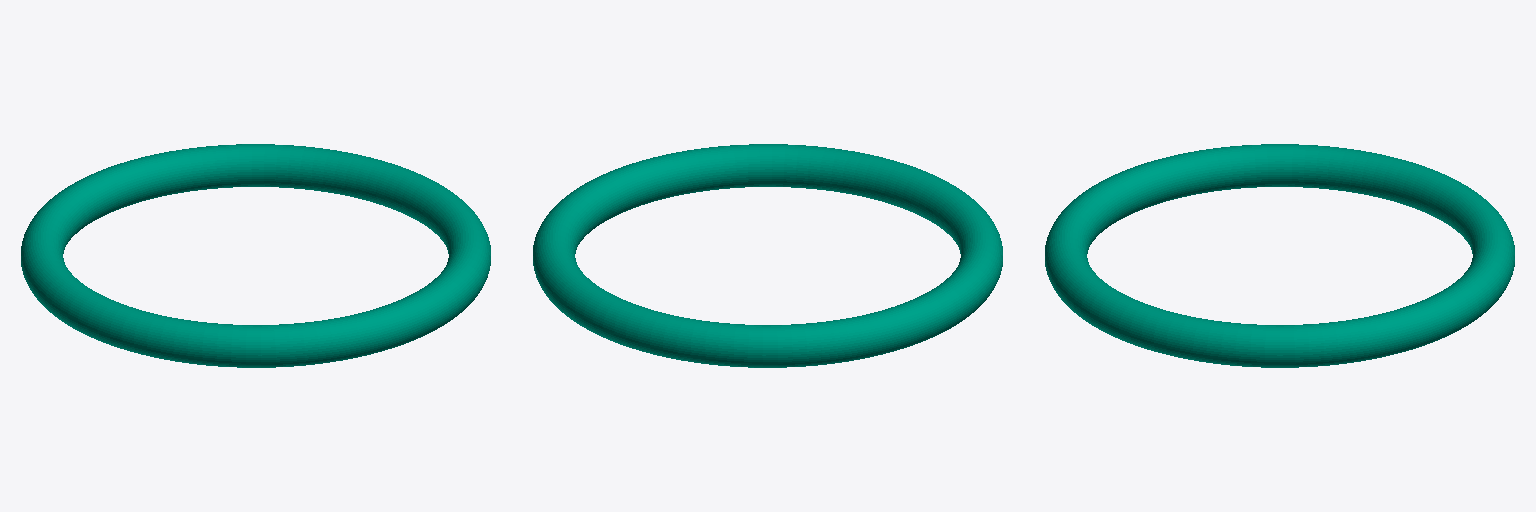
The model's file is ring4.obj.
3 views of the same model, side by side, from view 1: azimuth 30°, elevation 25°; view 2: azimuth 150°, elevation 25°; view 3: azimuth 270°, elevation 25° (orthographic).
Parts seen in each view (by area): view 1: Torus.004; view 2: Torus.004; view 3: Torus.004.
Part boxes in pixels (left/top/right/bottom): Torus.004: left=21, top=144, right=490, bottom=367; Torus.004: left=533, top=144, right=1002, bottom=367; Torus.004: left=1045, top=144, right=1514, bottom=367.
Size of the model in its own units: 0.88 by 0.0798 by 0.88.